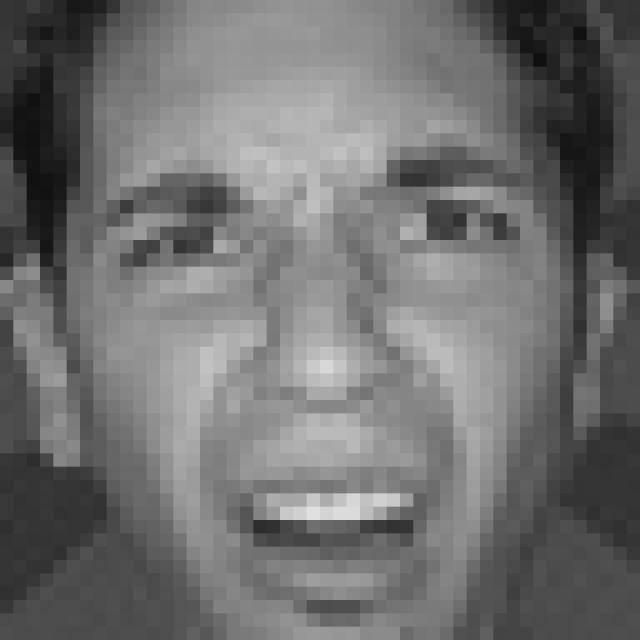disgust: (100, 150, 528, 619)
